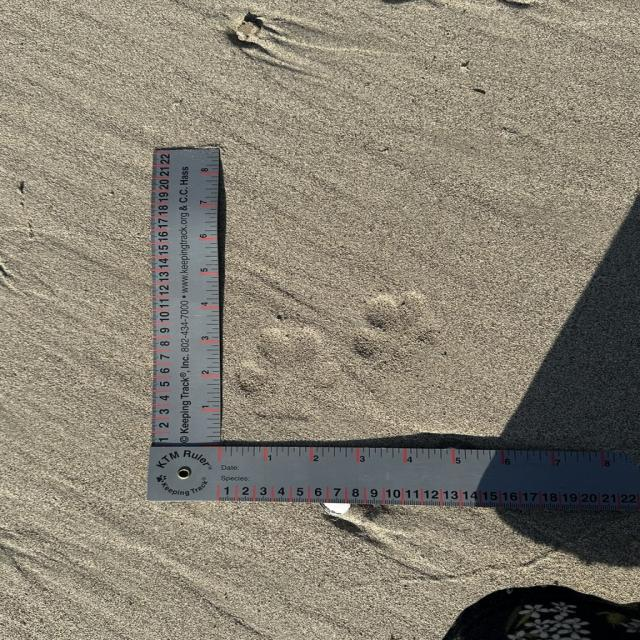canid: (235, 322, 338, 422), (355, 290, 448, 372)
